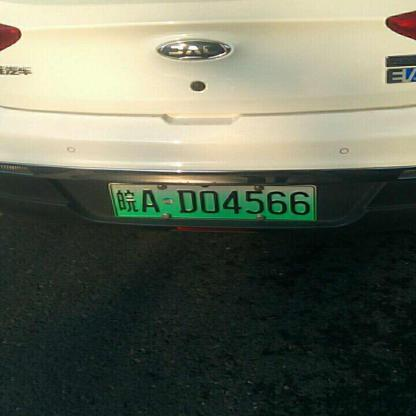lp: (107, 184, 316, 221)
